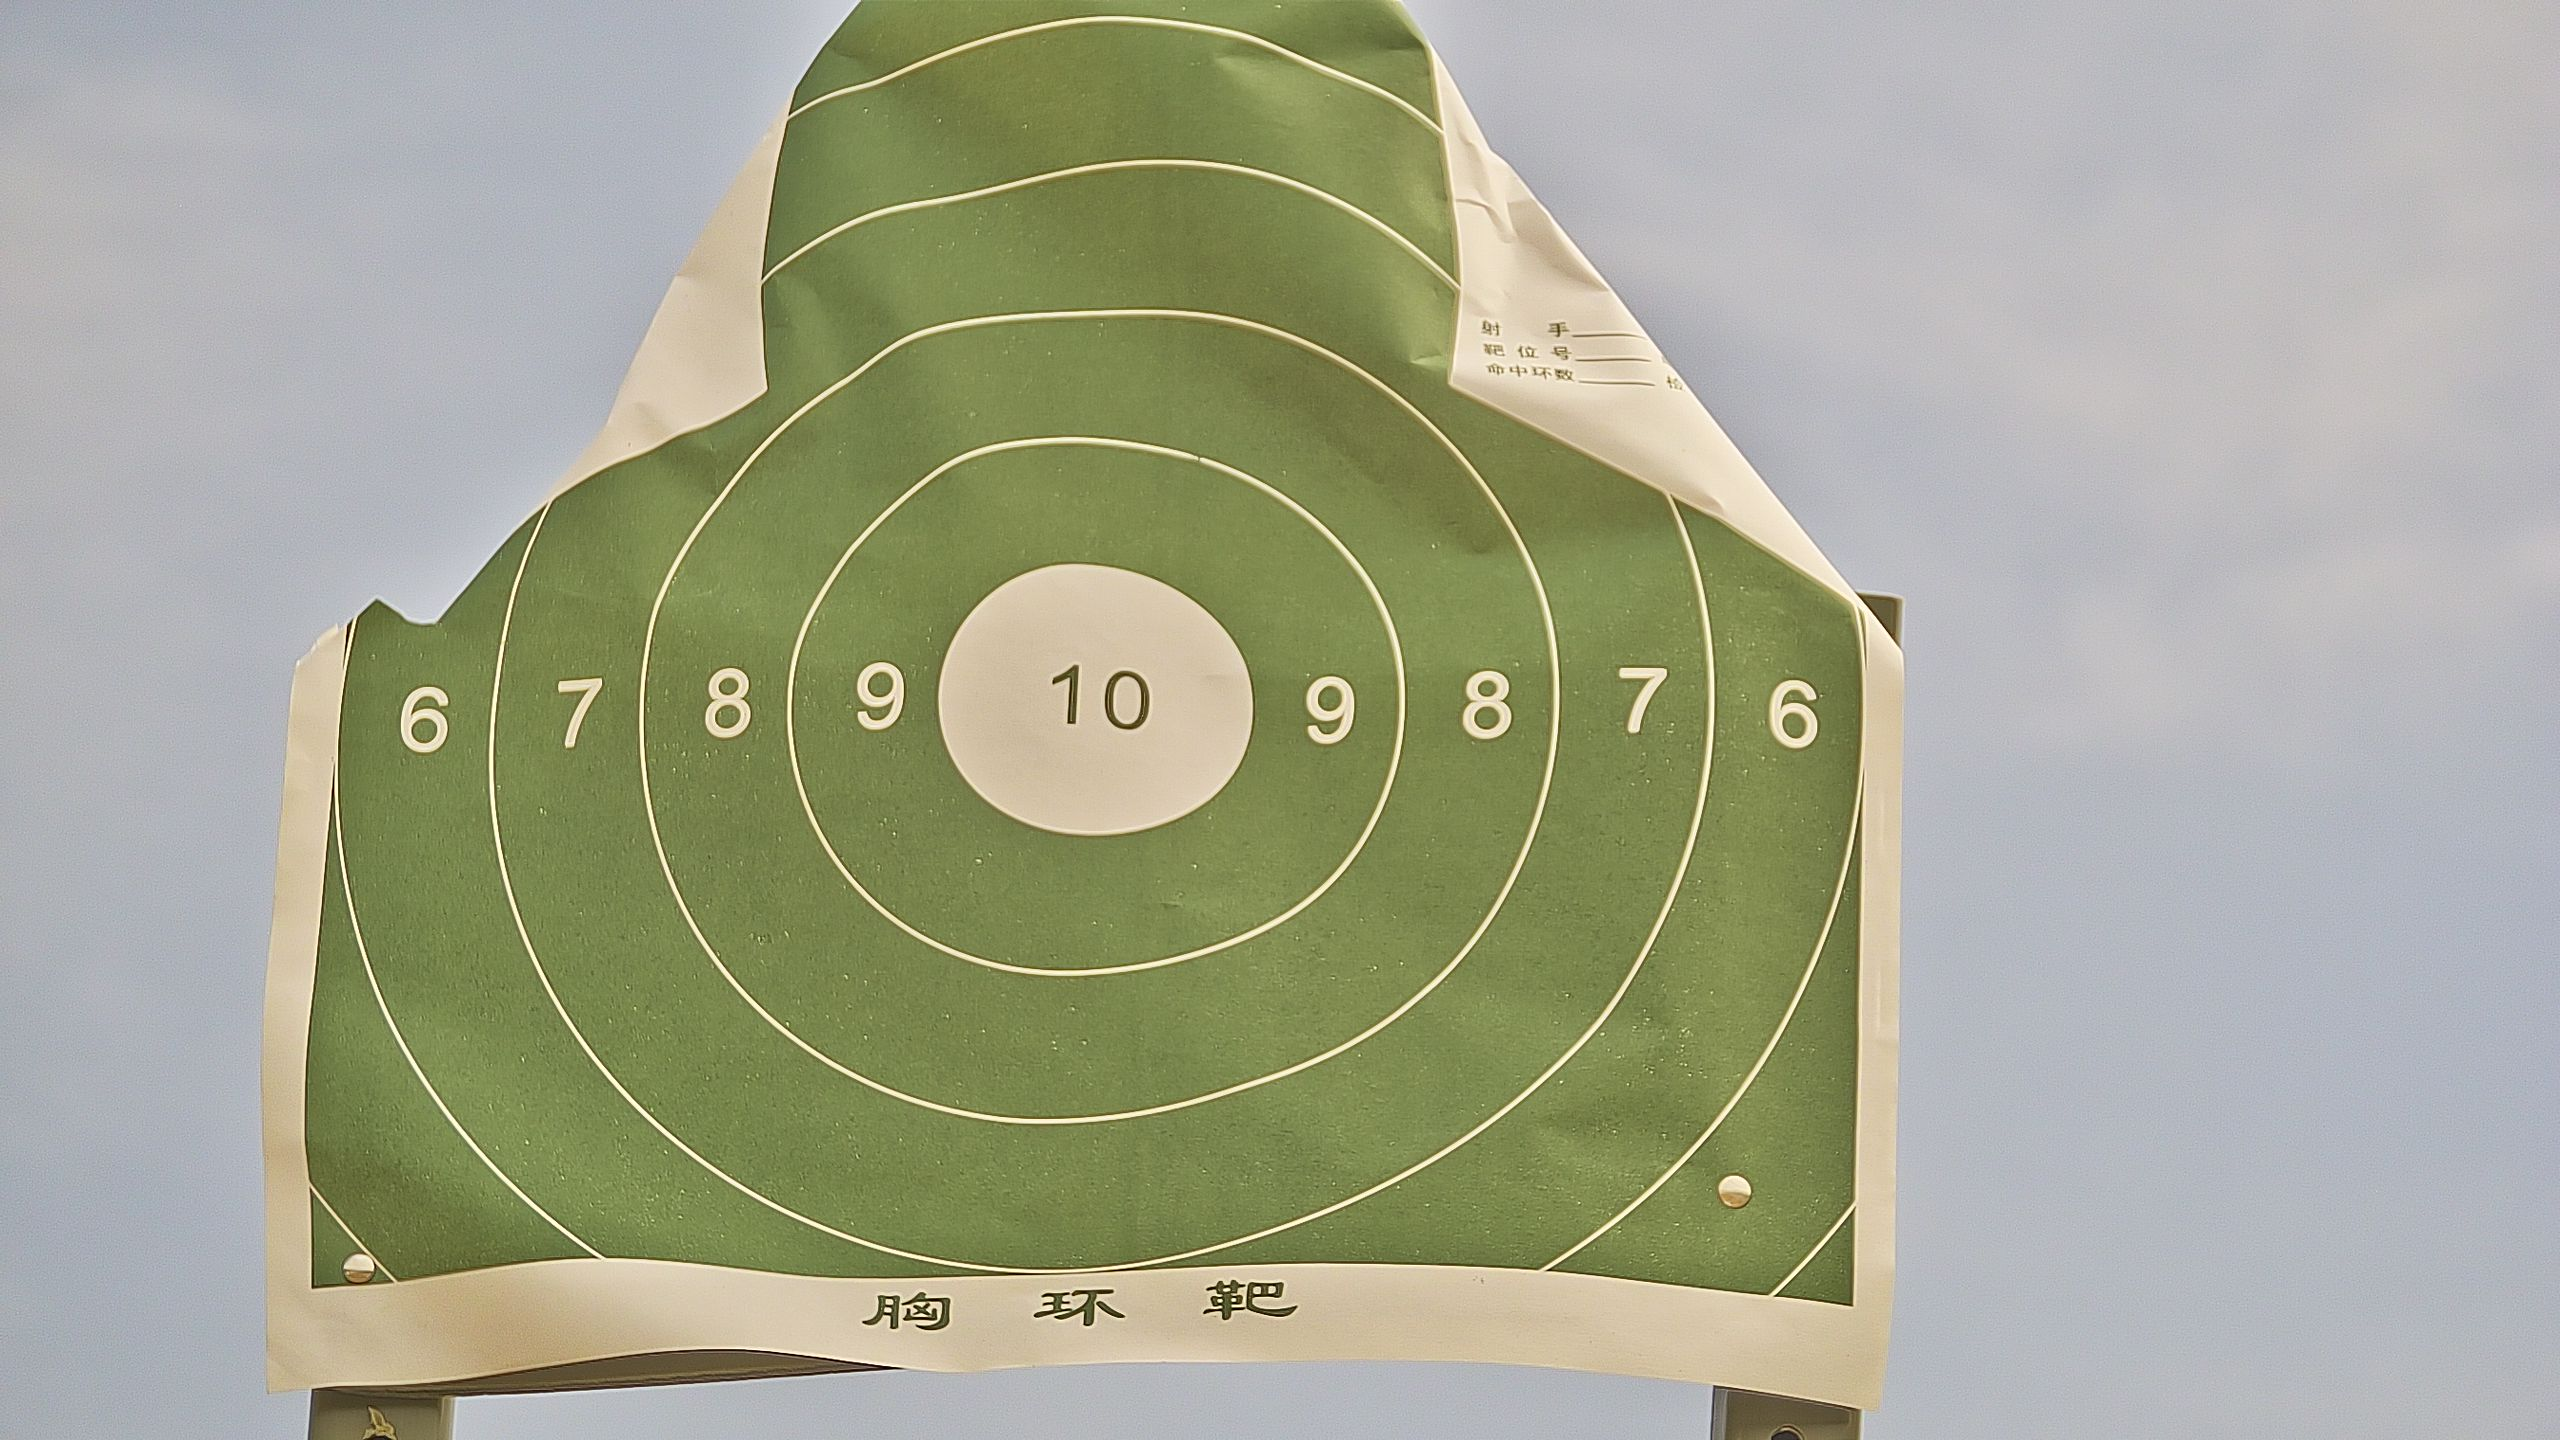kernel: (1087, 700, 1090, 702)
target: (302, 7, 1858, 1312)
ten: (934, 561, 1255, 833)
